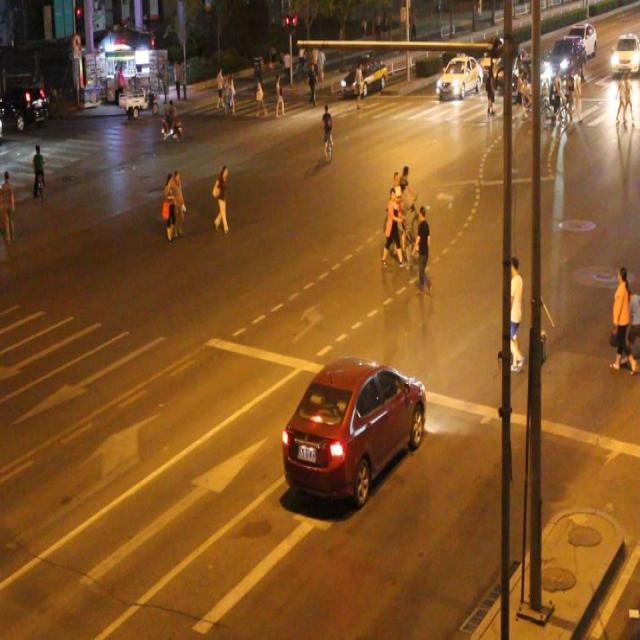car: (283, 356, 426, 504)
